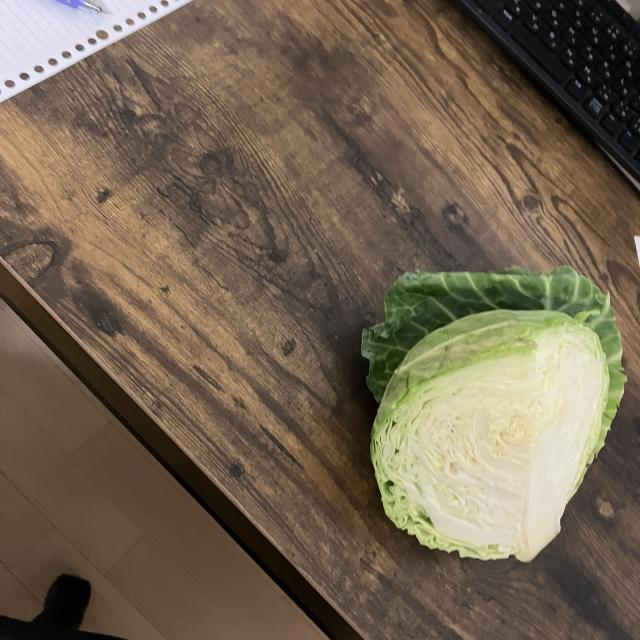haft-cabbage: (358, 265, 630, 565)
